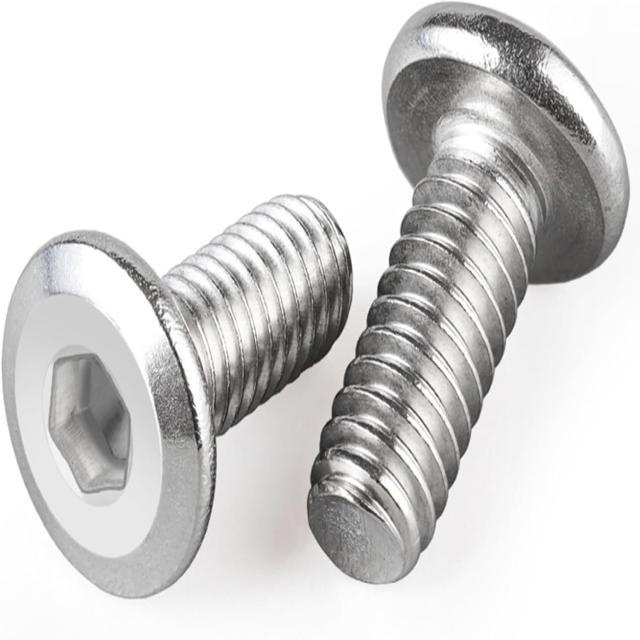allen: (46, 349, 133, 497)
